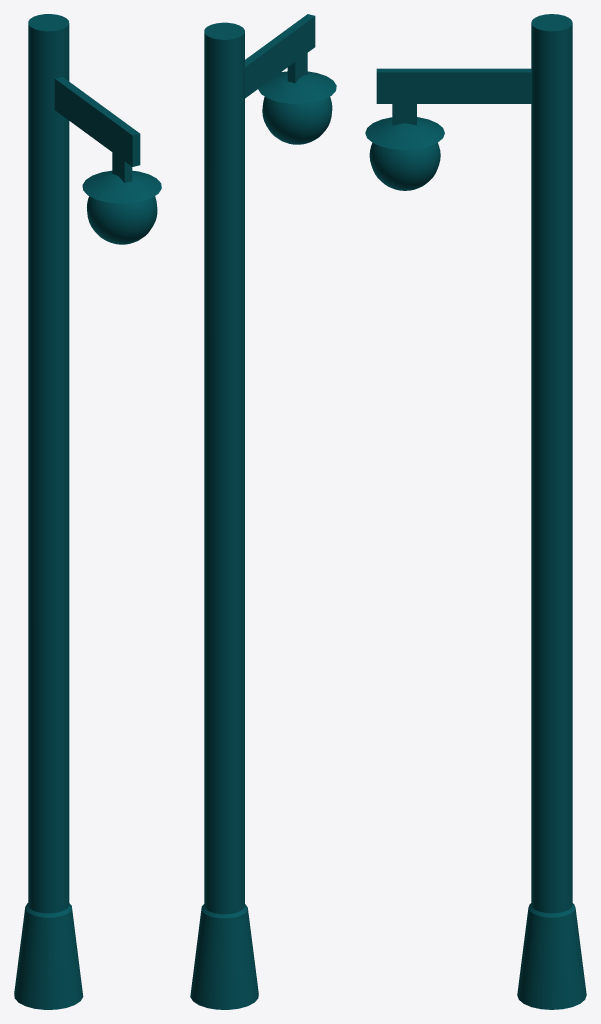
Rendered from Gaitou_20.fbx.
3 views of the same model, side by side, from view 1: azimuth 30°, elevation 25°; view 2: azimuth 150°, elevation 25°; view 3: azimuth 270°, elevation 25° (orthographic).
Visible parts, largest first — view 1: Gaitou1; view 2: Gaitou1; view 3: Gaitou1.
Part boxes in pixels (<box>): Gaitou1: <box>14,14,161,1009</box>; Gaitou1: <box>190,14,336,1009</box>; Gaitou1: <box>365,14,586,1009</box>.
Size of the model in its own units: 44.91 by 604 by 125.
